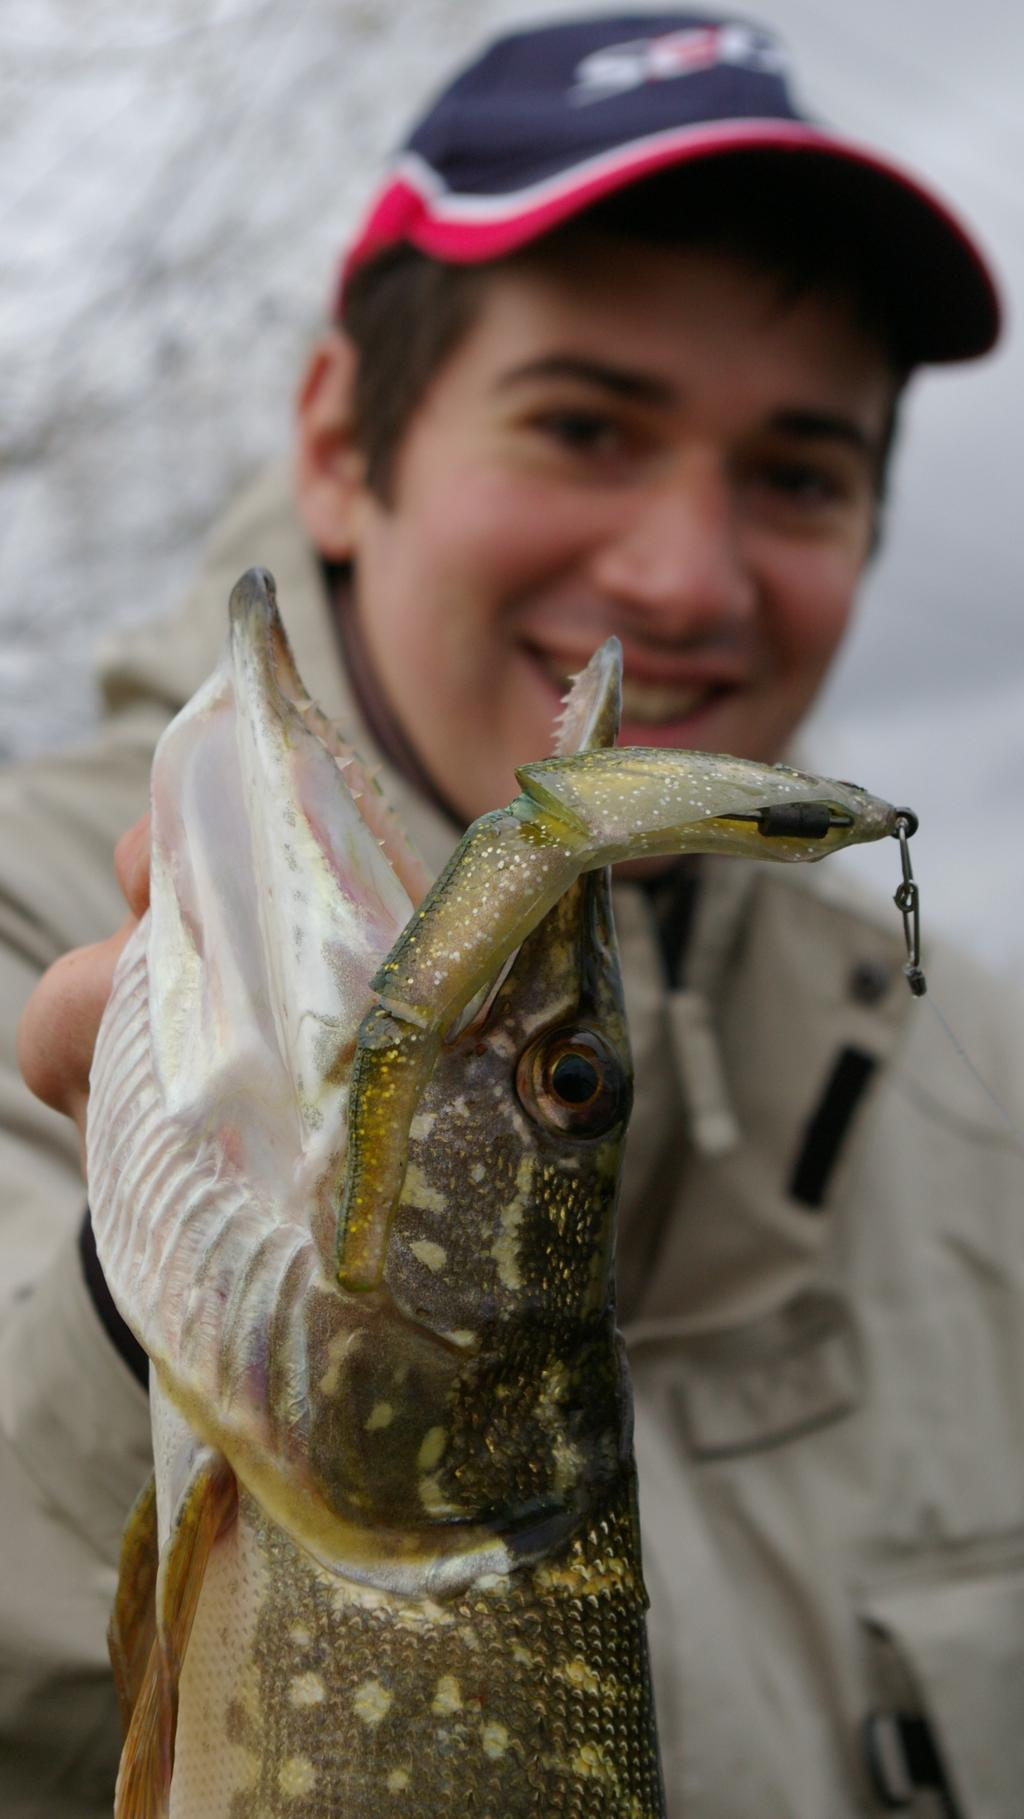face: (412, 256, 881, 846)
